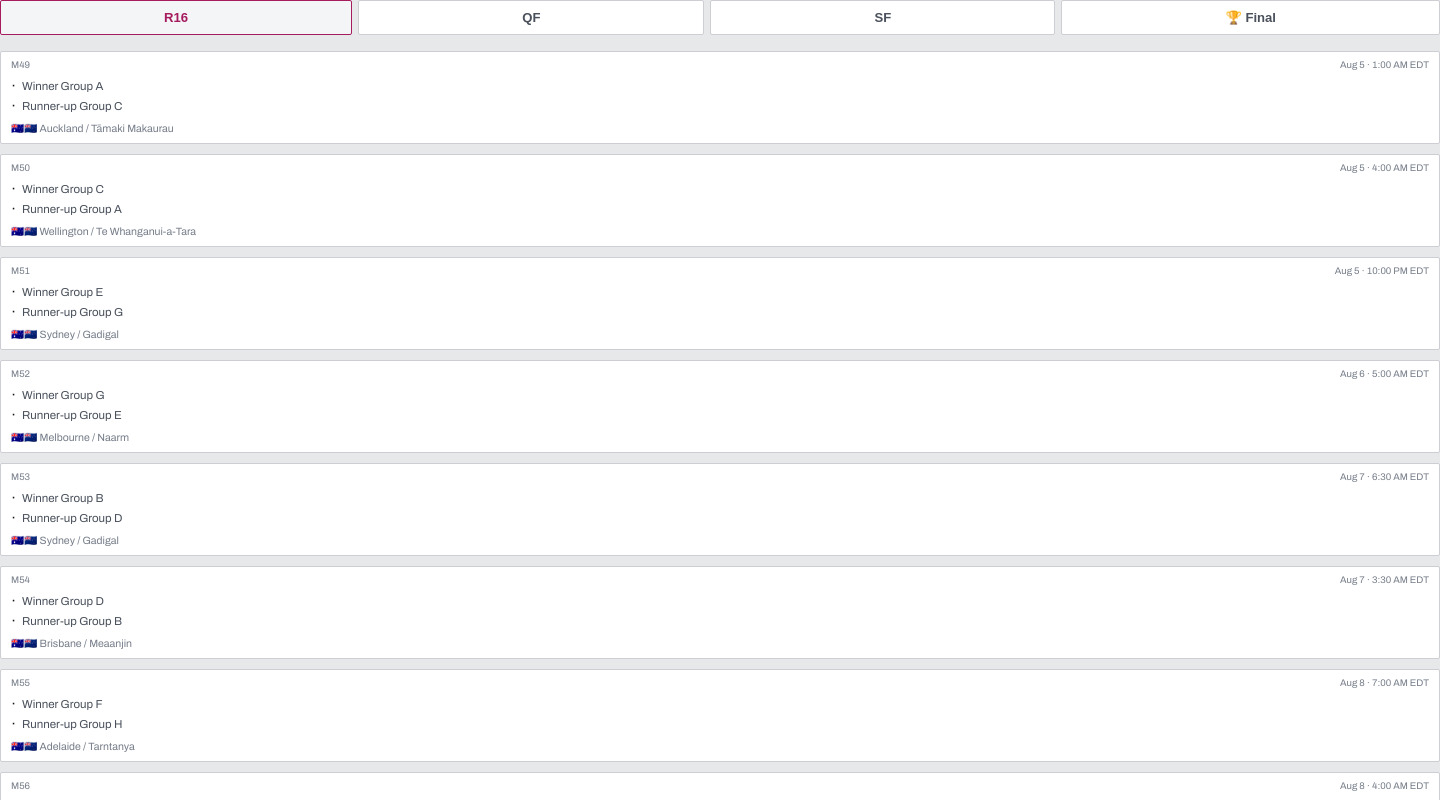
Scenario: Bracket — mobile round view › puts the third-place play-off alongside the Final, under its own label
Click the tab "🏆 Final".
click(1251, 18)  # box [1061,0,1439,35]
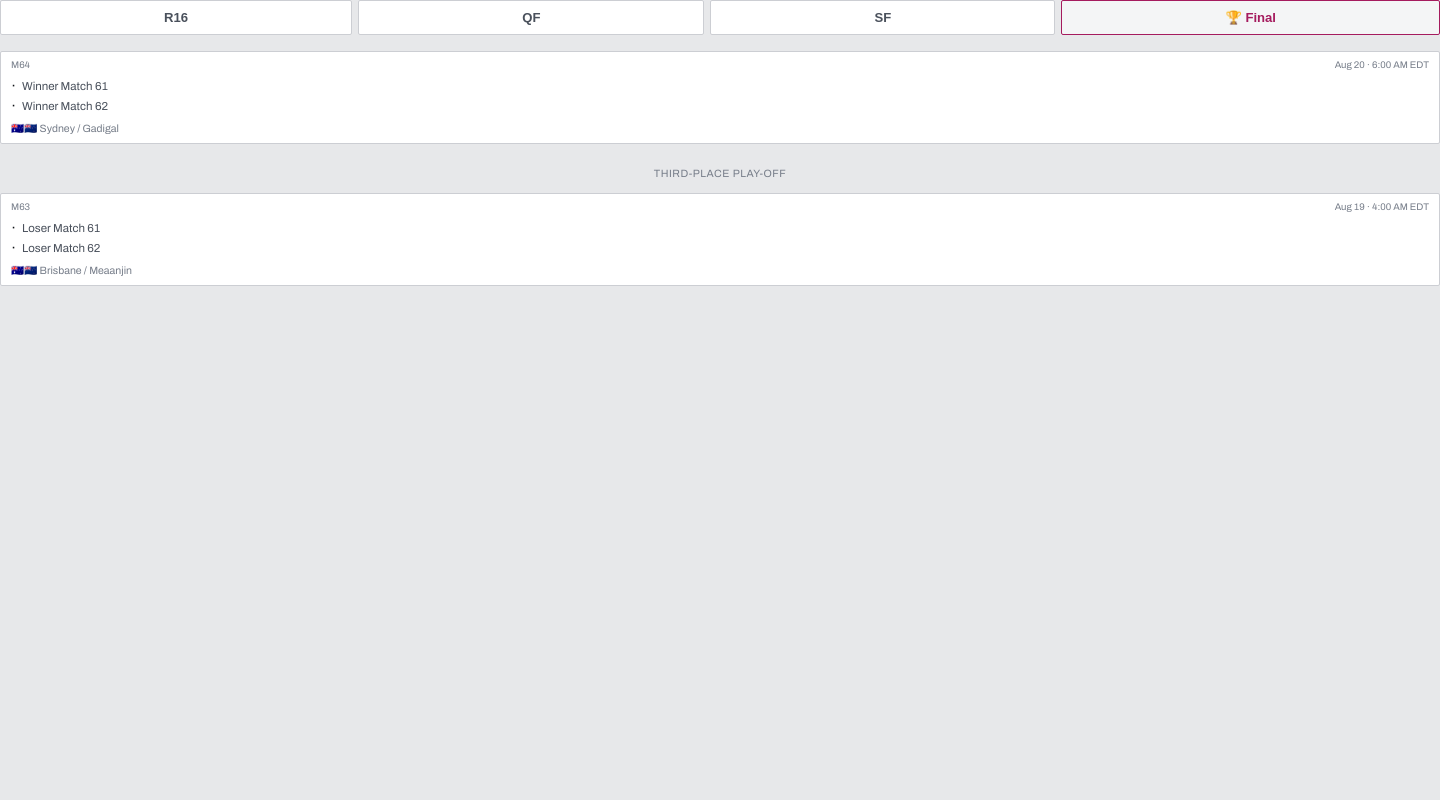
Now the button with id "bx-m64" is shown, box [0,51,1439,144]
Now the button with id "bx-m63" is shown, box [0,193,1439,286]
Now the text "Third-place play-off" is shown, box [654,168,786,179]
